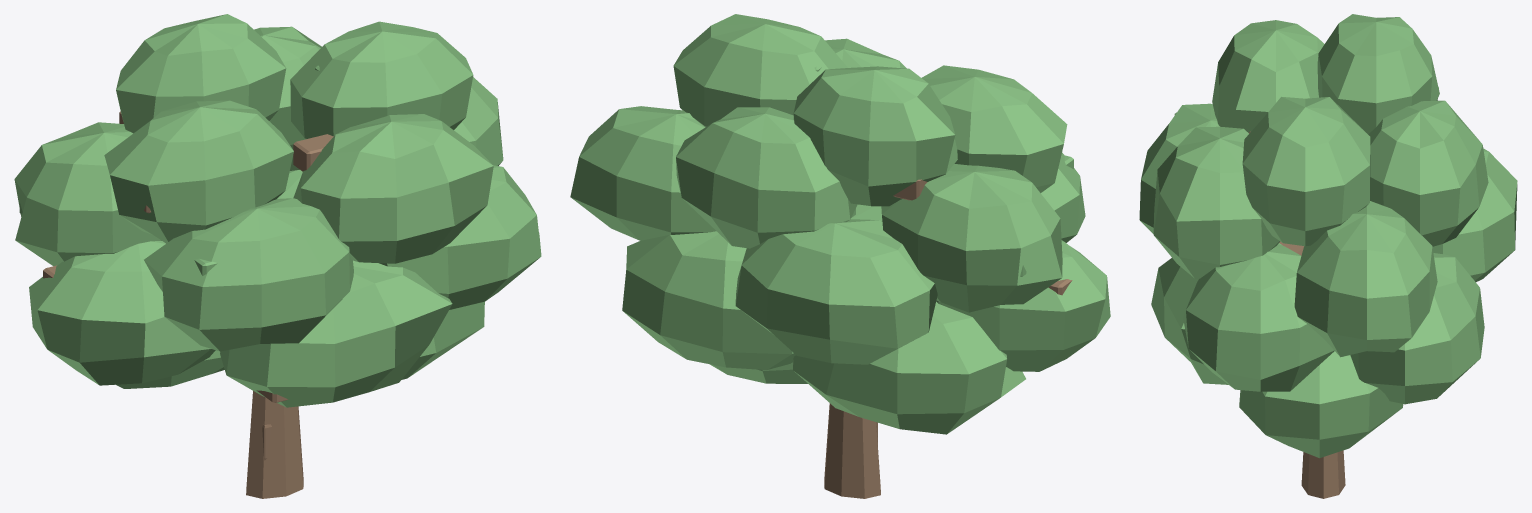
File: b08_mature_white_oak.glb
3 views of the same model, side by side, from view 1: azimuth 30°, elevation 25°; view 2: azimuth 150°, elevation 25°; view 3: azimuth 270°, elevation 25° (orthographic). The views are drawn at different scales.
Parts seen in each view (by area): view 1: b08_mature_white_oak; view 2: b08_mature_white_oak; view 3: b08_mature_white_oak.
Part boxes in pixels (left/top/right/bottom): b08_mature_white_oak: left=14, top=14, right=541, bottom=498; b08_mature_white_oak: left=570, top=14, right=1110, bottom=498; b08_mature_white_oak: left=1139, top=14, right=1517, bottom=498.
Size of the model in its own units: 7.17 by 6.34 by 4.94.
